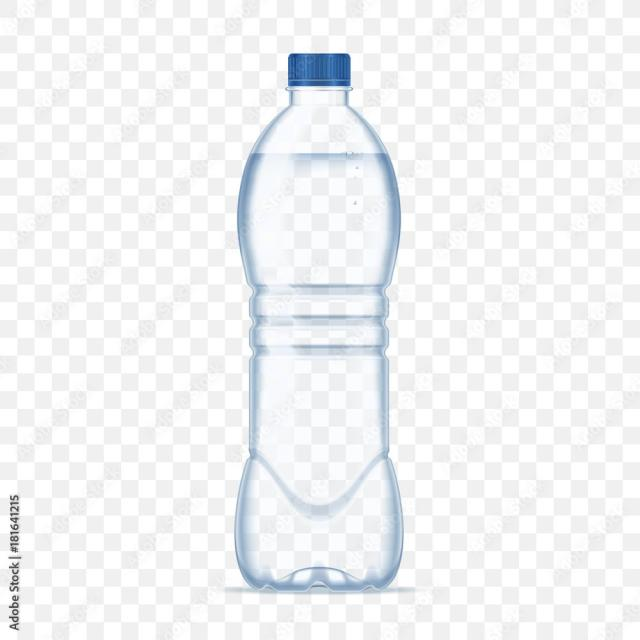bottle: (215, 41, 458, 601)
